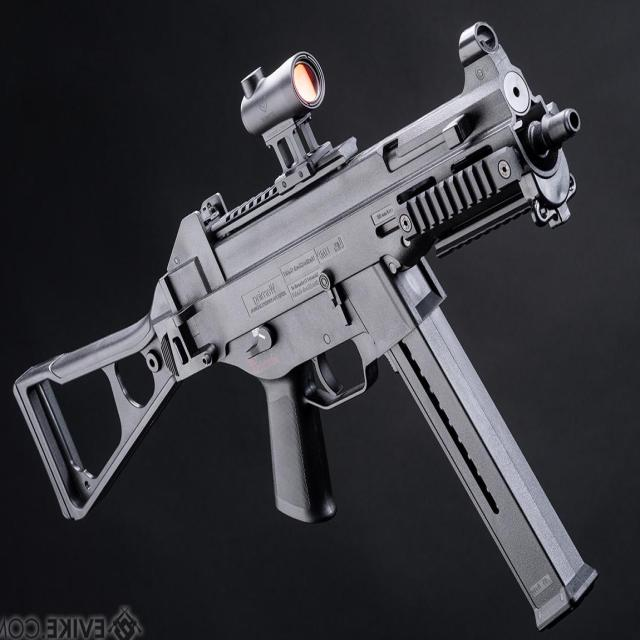Gun: (17, 0, 569, 640)
